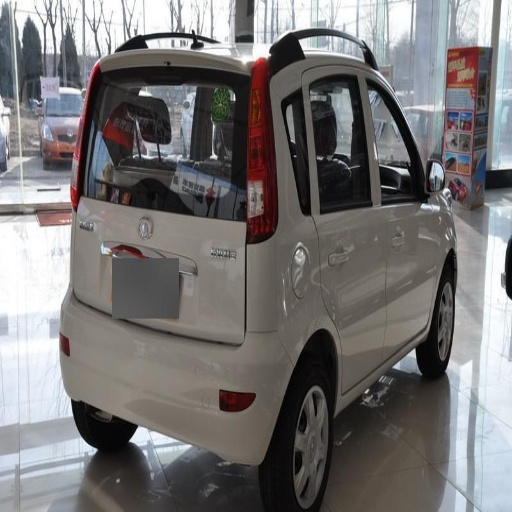back_bumper: (66, 297, 297, 462)
back_right_door: (303, 65, 386, 381)
tailgate: (78, 264, 221, 336)
trunk: (75, 186, 275, 344)
